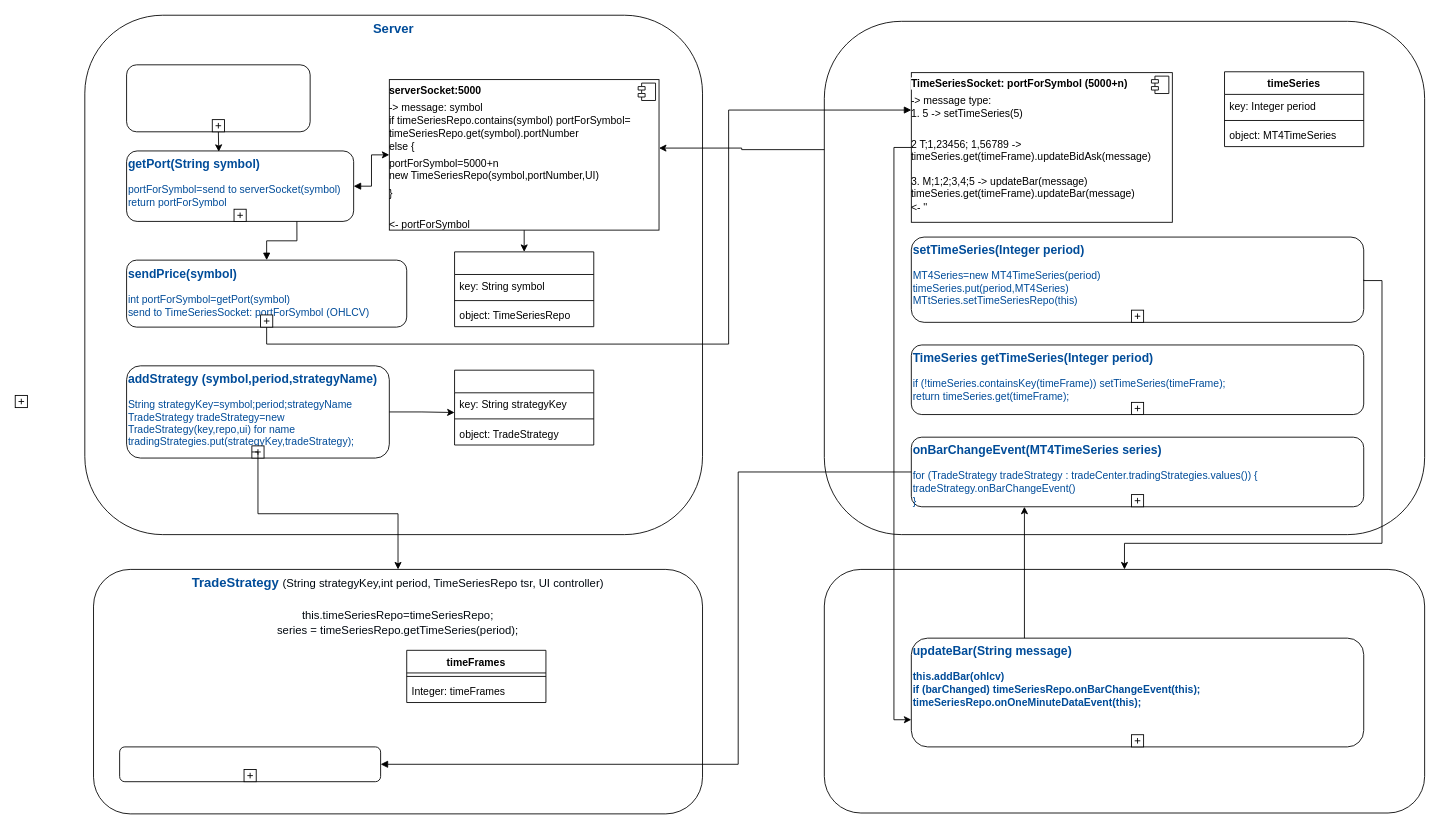
Image size: 1440x829. Some labels were removed from this diagram. The shapes that lost their labels are listed below. From the top down, each one's box as (x1, y1, x2, y2) in pixels, then its label:
(126, 64, 310, 132): addSymbol (symbol) int portForSymbol=getPort(symbol)
(454, 251, 594, 327): timeSeriesRepos
(823, 20, 1425, 535): TimeSeriesRepo ( Sring symbol, int portNumber, UI controller)
(454, 369, 594, 445): tradingStrategies
(823, 569, 1425, 813): MT4TimeSeries
(119, 746, 381, 782): onBarChangeEvent(int timeFrame)
